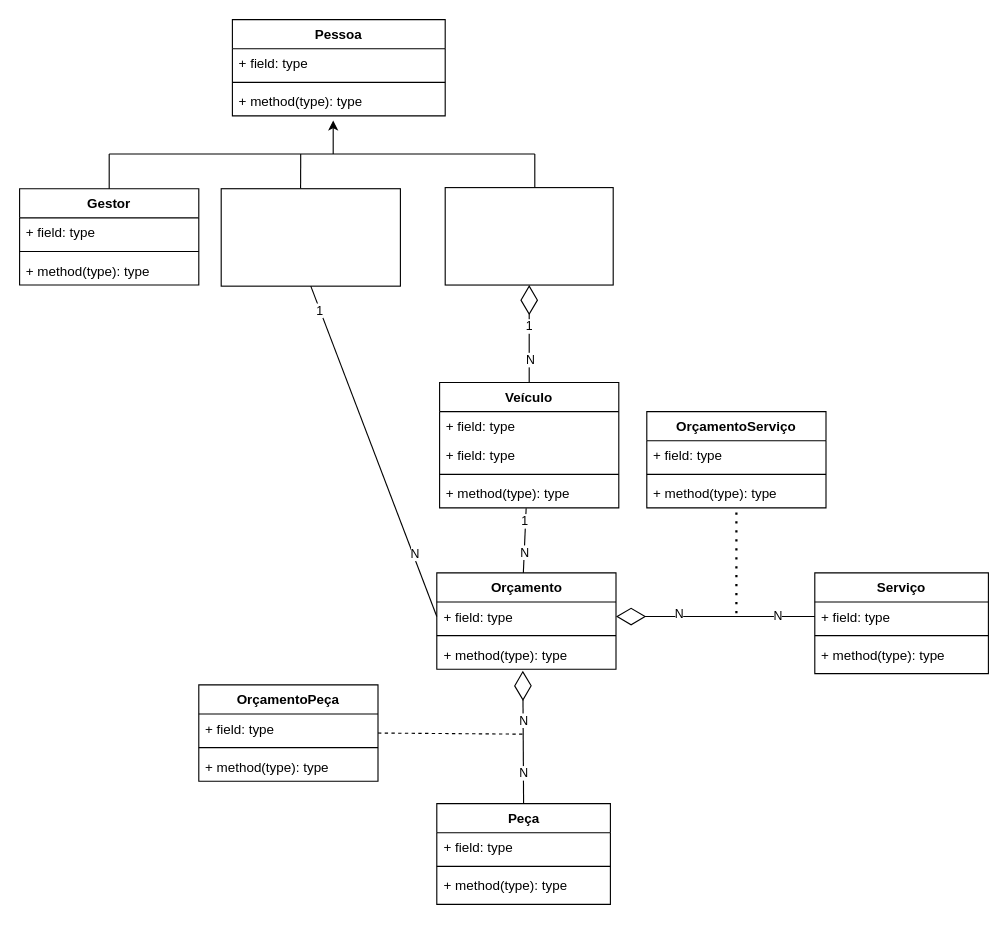
Some shapes in this 1008 by 927 pixel diagram are drawn without their labels. The shapes that lost their labels are listed below. From the top down, each one's centre as x and y in pixels, then its label:
[310,237]: Mecânico + field: Type + method(): Type
[528,235]: Cliente + field: Type + method(): Type
